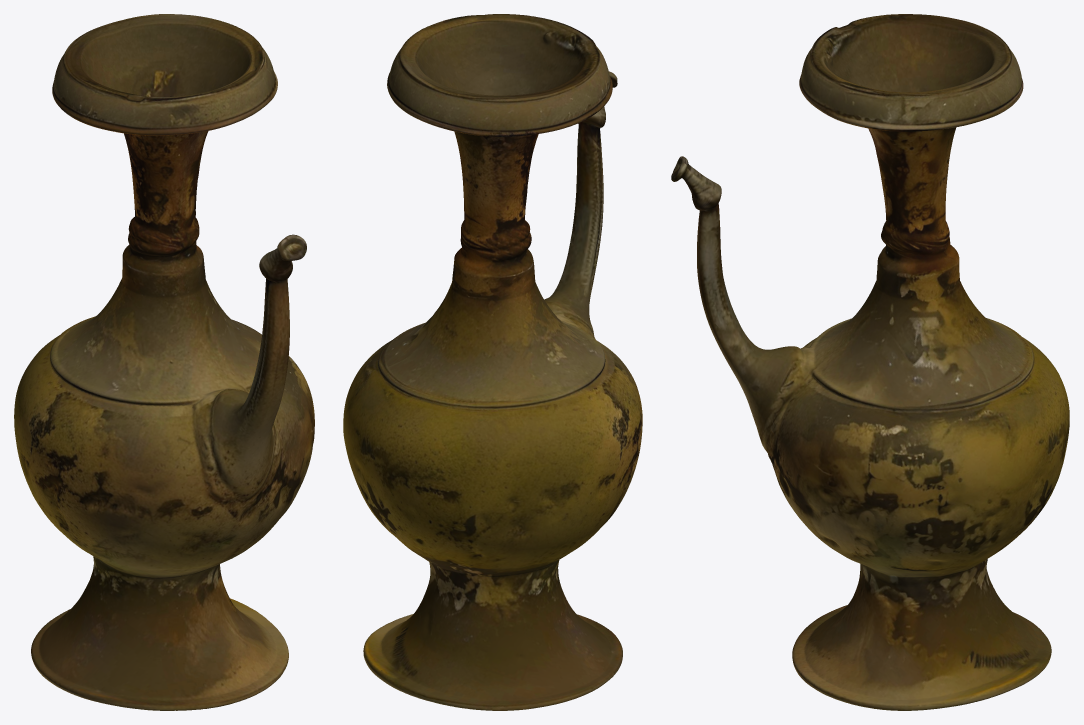
The model's file is traditional_nepali_karuwa_water_jar.glb.
The picture shows the model from 3 angles, left to right: view 1: azimuth 30°, elevation 25°; view 2: azimuth 150°, elevation 25°; view 3: azimuth 270°, elevation 25°; orthographic projection.
Visible parts, largest first — view 1: tripo_node_b4743ba5; view 2: tripo_node_b4743ba5; view 3: tripo_node_b4743ba5.
Part boxes in pixels (x1=…): tripo_node_b4743ba5: x1=14, y1=14, x2=314, y2=710; tripo_node_b4743ba5: x1=343, y1=14, x2=642, y2=710; tripo_node_b4743ba5: x1=671, y1=14, x2=1069, y2=710.
Size of the model in its own units: 0.4488 by 1 by 0.5947.
1 material, 1 textured.
